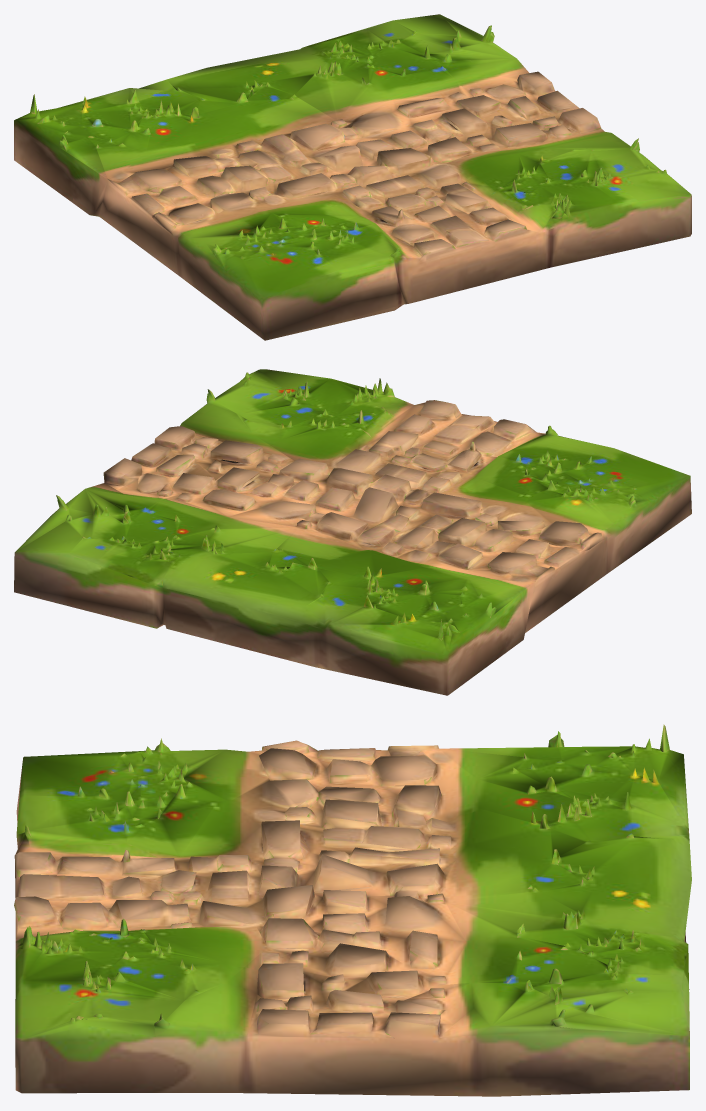
The model's file is path-t.glb.
The picture shows the model from 3 angles, top to bottom: view 1: azimuth 30°, elevation 25°; view 2: azimuth 150°, elevation 25°; view 3: azimuth 270°, elevation 25°; orthographic projection. The views are drawn at different scales.
Visible parts, largest first — view 1: Mesh1.0; view 2: Mesh1.0; view 3: Mesh1.0.
Boxes of the visible parts, box(x1,y1,x2,y2) form: Mesh1.0: box(14, 14, 691, 340); Mesh1.0: box(14, 369, 691, 695); Mesh1.0: box(14, 724, 691, 1096).
Size of the model in its own units: 1.9 by 0.3086 by 1.89.
Materials: 1 (1 with a texture image).
